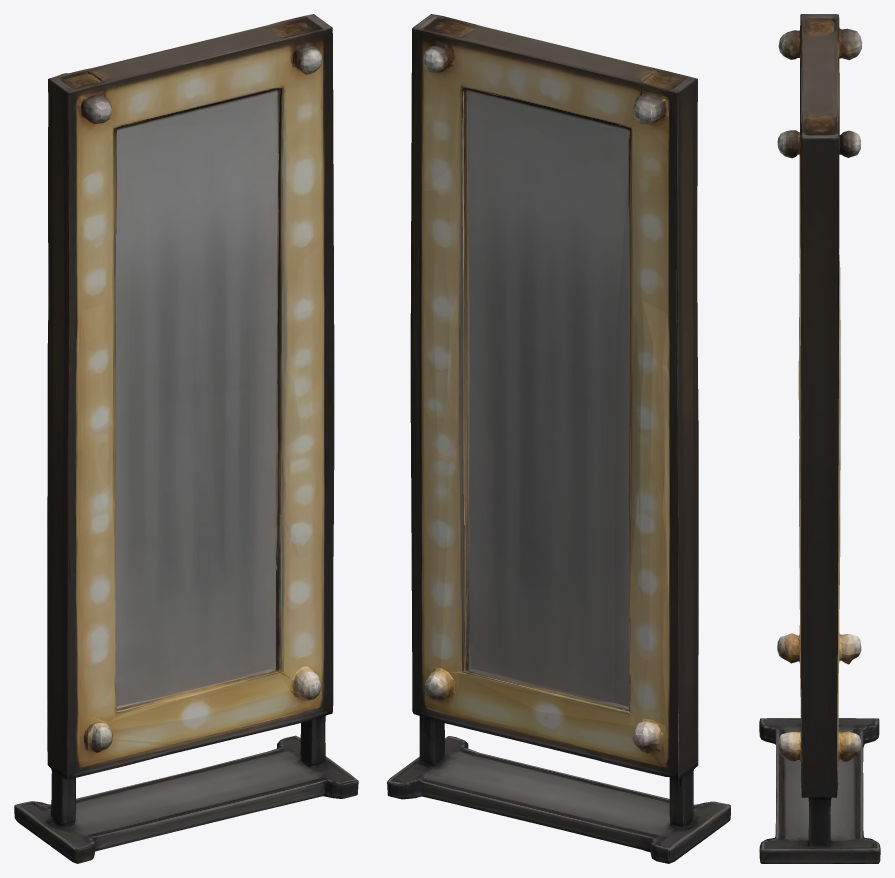
3 views of the same model, side by side, from view 1: azimuth 30°, elevation 25°; view 2: azimuth 150°, elevation 25°; view 3: azimuth 270°, elevation 25° (orthographic). The views are drawn at different scales.
Parts seen in each view (by area): view 1: geometry_0; view 2: geometry_0; view 3: geometry_0.
Boxes of the visible parts, <box> form: geometry_0: <box>14,14,358,863</box>; geometry_0: <box>387,14,730,863</box>; geometry_0: <box>759,14,880,863</box>.
Bounding box in the file's own units: 0.3948 × 1 × 0.1517.
Materials: 1 (1 with a texture image).
